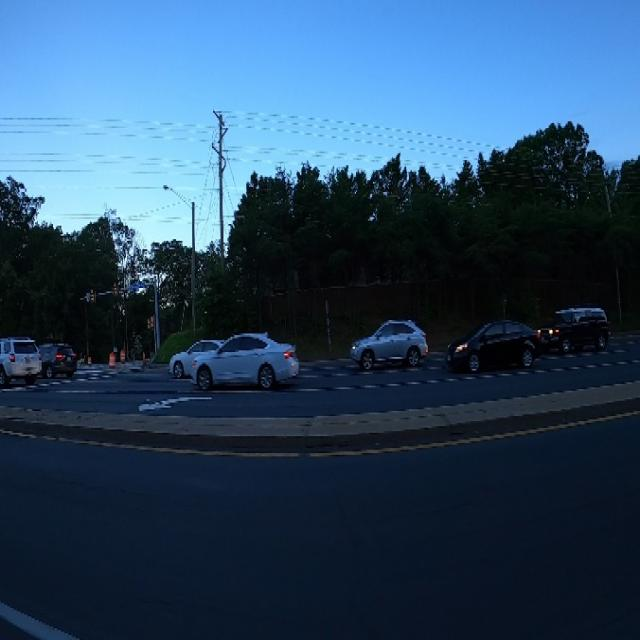car: (187, 324, 302, 393), (448, 312, 542, 382), (345, 305, 430, 369), (533, 298, 617, 359), (170, 341, 239, 388), (32, 322, 80, 381), (0, 327, 40, 391)
